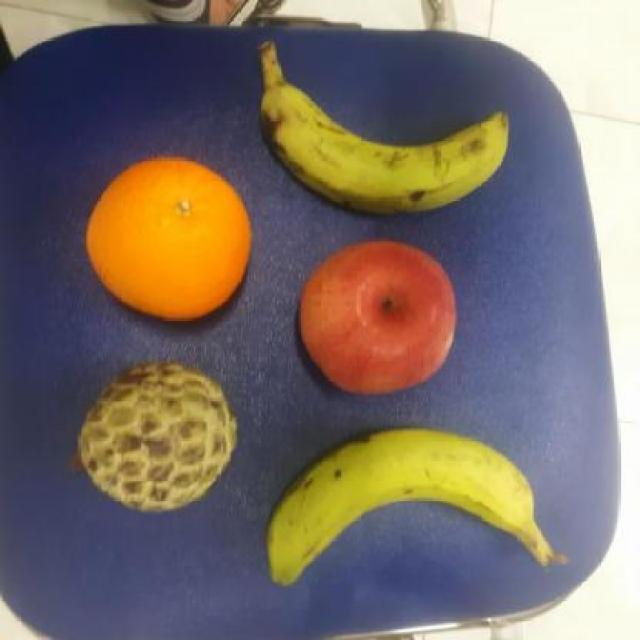apple: (298, 240, 457, 398)
banana: (266, 423, 560, 583), (262, 66, 513, 225)
oren: (80, 151, 255, 324)
sugar apple: (67, 355, 247, 517)
